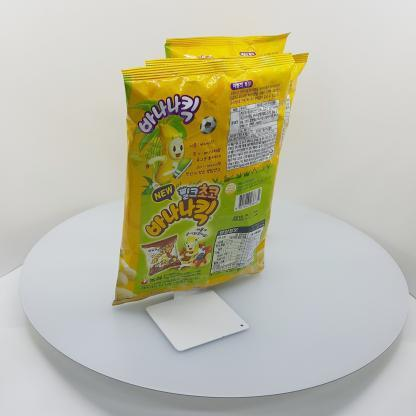Plastic Packaging: (113, 29, 314, 310)
